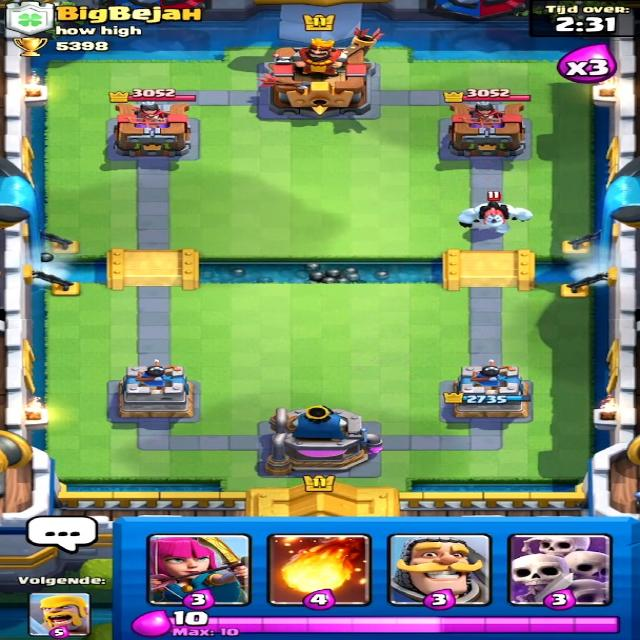Enemy_Ice_Golem_Troop: (448, 198, 538, 232)
Fireball_Card: (272, 535, 368, 605)
